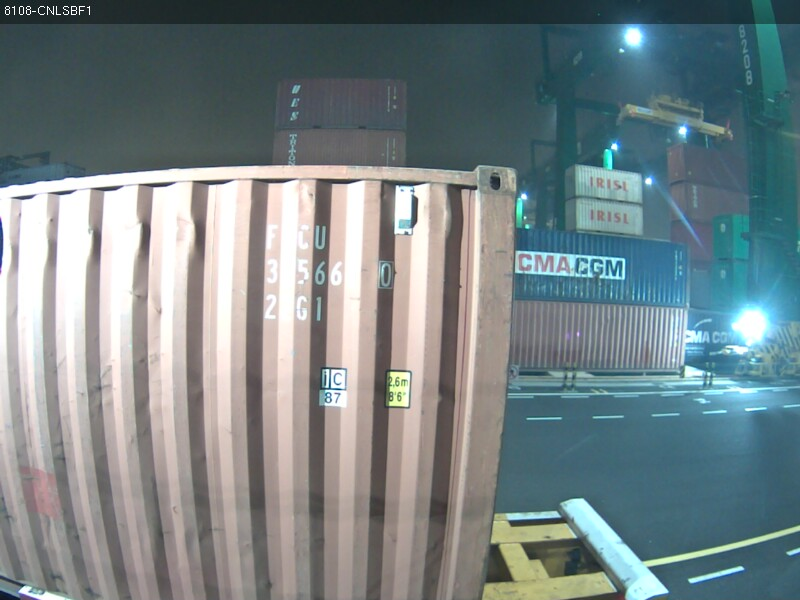container_no_door: (13, 153, 519, 598)
